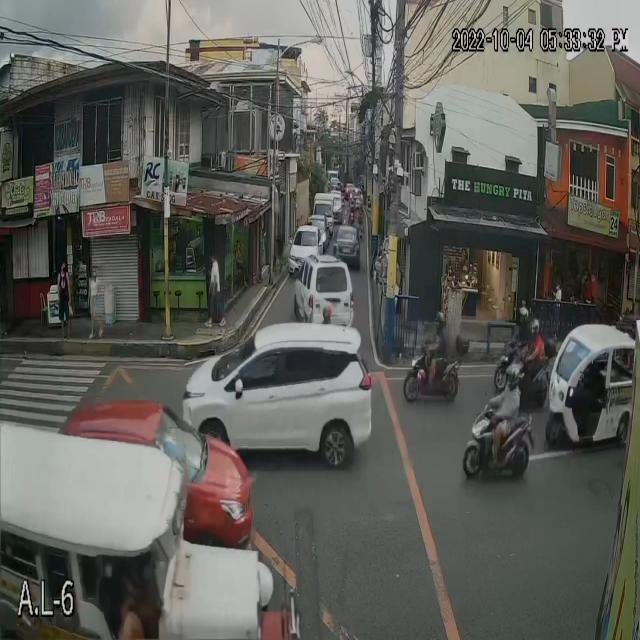Full-Faced: (501, 362, 518, 389), (432, 307, 447, 333), (518, 306, 531, 331), (316, 301, 332, 321), (529, 318, 542, 340)
